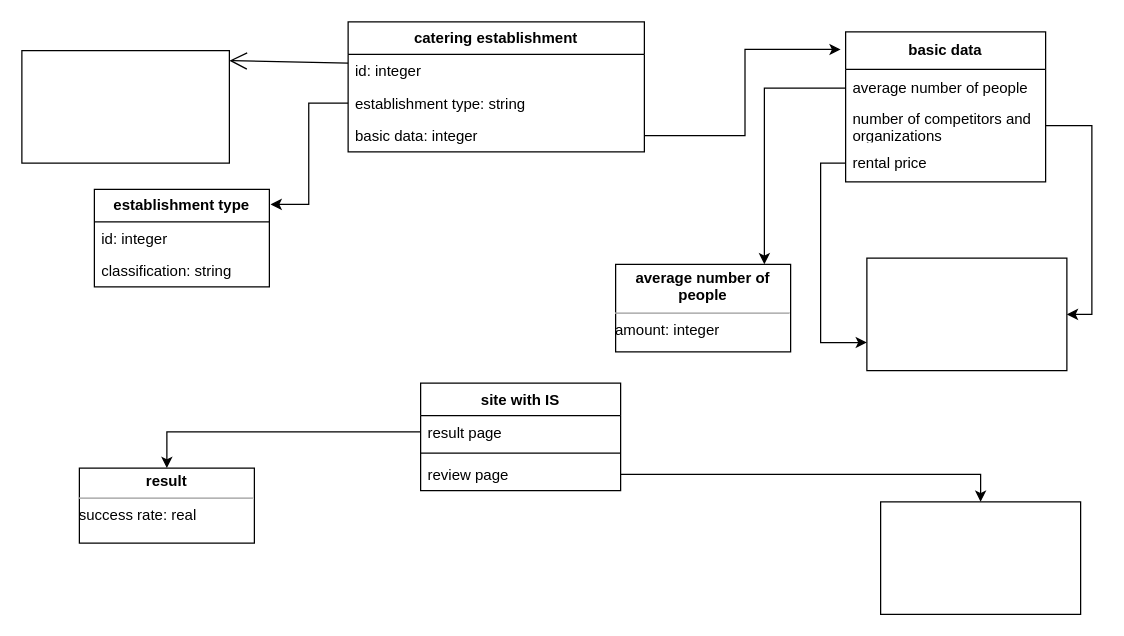
This 1124x636 diagram has some shape labels left out. Each missing label, with the centre of its shape:
API name: string: [966,314]
place map marker specific address: [125,106]
review name: string review: text: [980,557]
